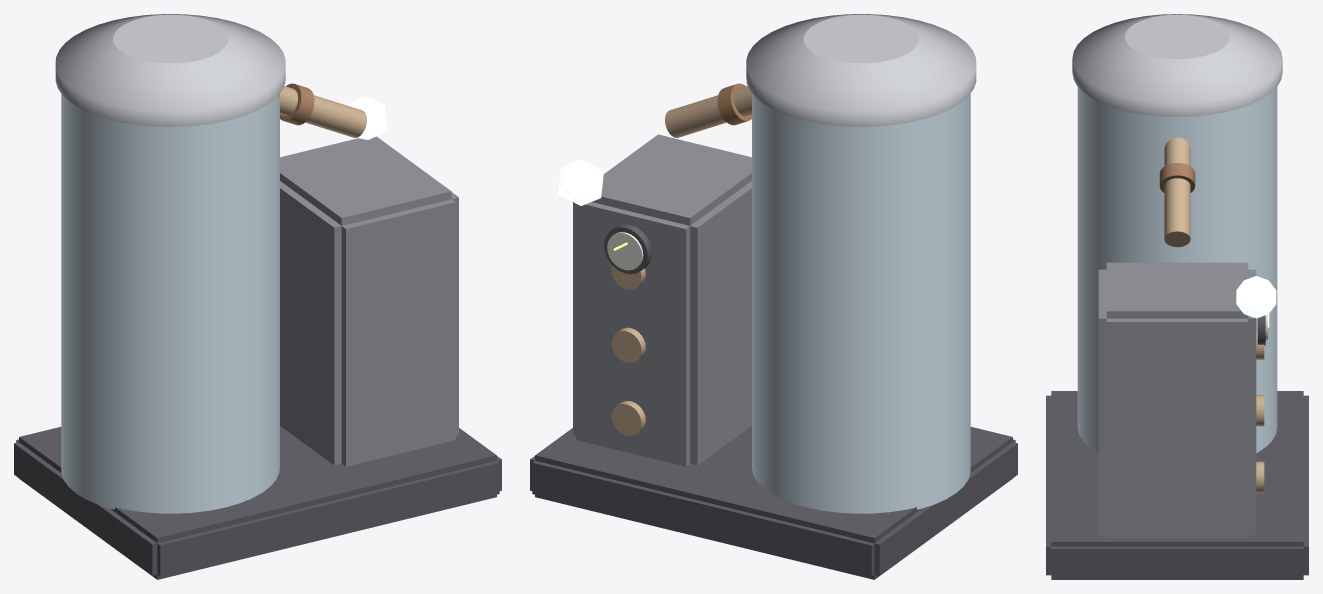
File: base_purifier.fbx
3 renders of one model, left to right at view 1: azimuth 30°, elevation 25°; view 2: azimuth 150°, elevation 25°; view 3: azimuth 270°, elevation 25°, orthographic. The views are drawn at different scales.
Visible parts, largest first — view 1: base_purifier, Indicator; view 2: base_purifier, Indicator; view 3: base_purifier, Indicator.
Part boxes in pixels (bbox=[...]): base_purifier: bbox=[14, 14, 501, 579]; Indicator: bbox=[346, 96, 387, 139]; base_purifier: bbox=[530, 14, 1017, 579]; Indicator: bbox=[558, 159, 603, 205]; base_purifier: bbox=[1046, 14, 1308, 579]; Indicator: bbox=[1236, 276, 1276, 318].
Size of the model in its own units: 1.45 by 1.8 by 1.
